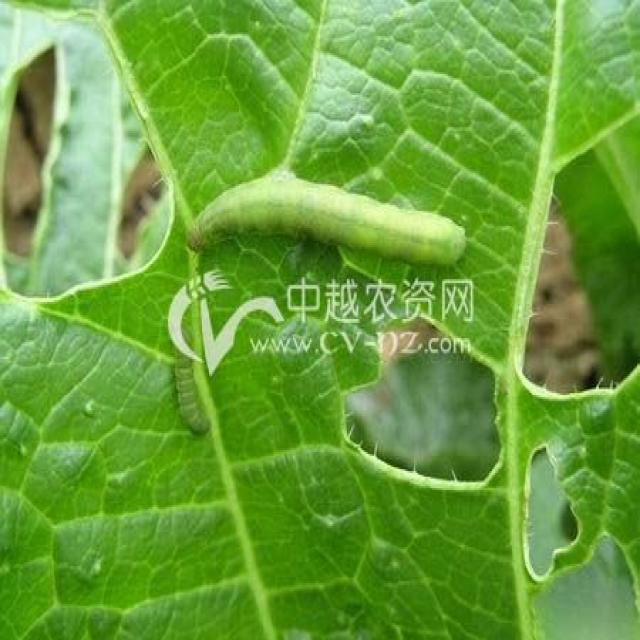armyworm: (181, 163, 469, 274)
